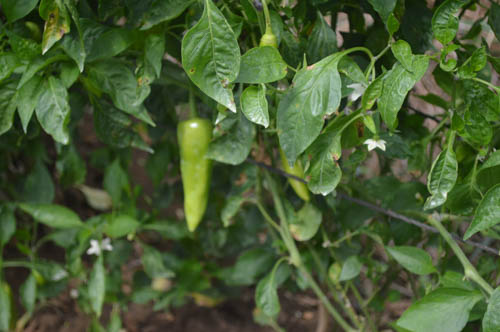ChiliPepper: (176, 119, 213, 235), (278, 143, 307, 204)
